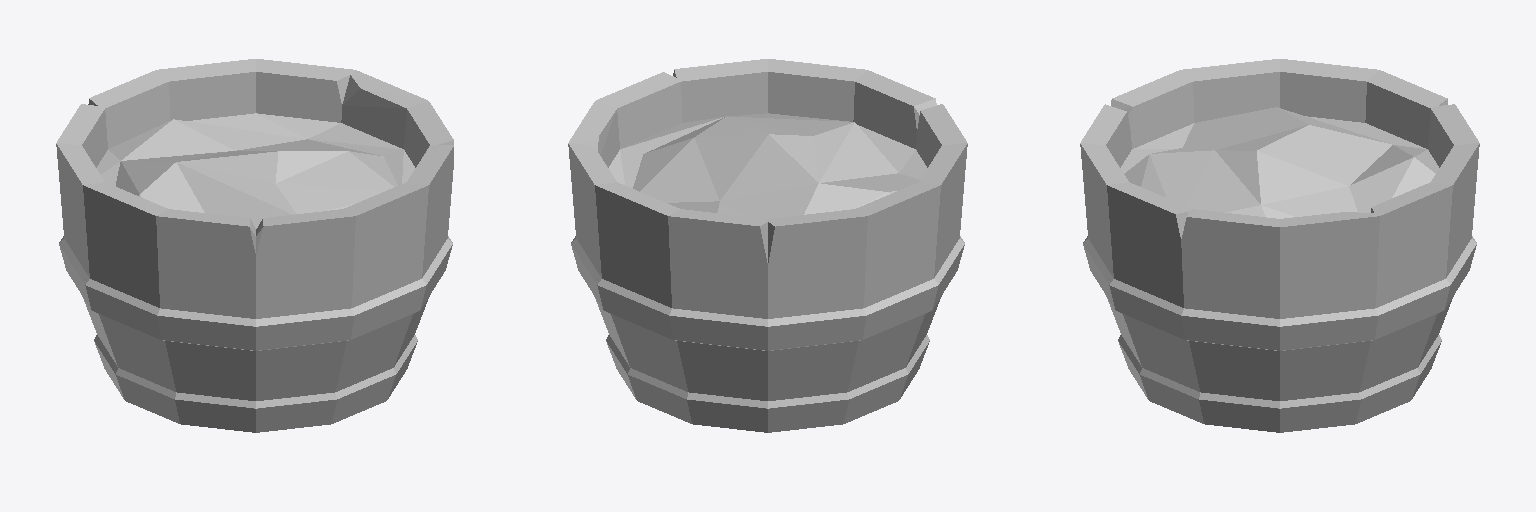
Rendered from SM_Prop_Barrel_Half_01.obj.
The picture shows the model from 3 angles: view 1: azimuth 30°, elevation 25°; view 2: azimuth 150°, elevation 25°; view 3: azimuth 270°, elevation 25°; orthographic projection.
Bounding box in the file's own units: 90.57 × 56.51 × 90.57.